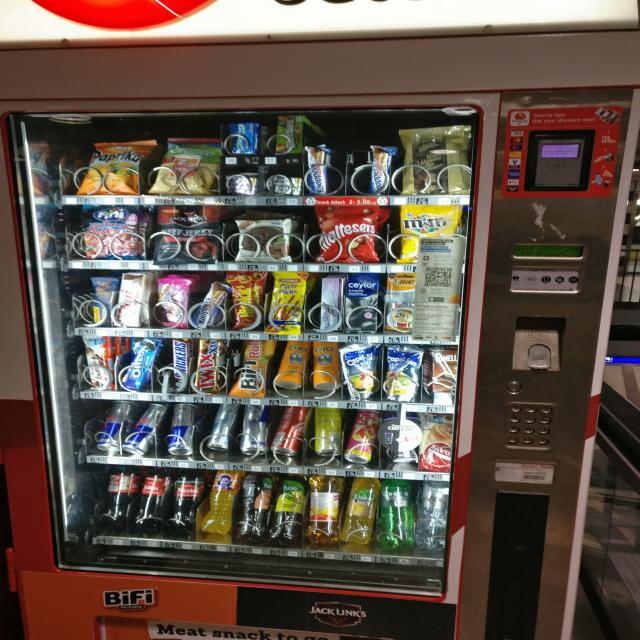7days_croissantschoko_packung_80_1_0000000000003: (417, 413, 453, 470)
airwaves_menthoneucalyptus_riegel_14_1_50173167: (228, 120, 258, 153)
bifi_roll__50__4251097402635: (238, 338, 271, 393)
bueno___43__4008400320328: (80, 333, 115, 391)
c-swiss_dosenabisicetea__33__9120025930135: (271, 337, 310, 388), (310, 338, 342, 390)
caprisun_multivitamin__20__4000177605004: (341, 340, 381, 397), (386, 343, 423, 402)
coke__dose_33__54491472: (272, 406, 310, 455)
coke__flasche_50__54491472: (168, 467, 208, 534), (134, 466, 172, 530), (100, 462, 136, 526)
comella_schokodrink__33__7613100037253: (424, 346, 461, 399)
fanta___50__40822938: (204, 470, 240, 537)
fini_galaxymix_packung_100_1_8410525150364: (81, 202, 142, 258)
fini_jellykisses_packung_80_1_8410525116704: (156, 278, 188, 328)
fuse_lemon__50__5449000235947: (268, 473, 308, 543)
fuse_lemon_dose_33__5449000235947: (308, 405, 348, 459)
fuse_peach__50__5449000236623: (234, 469, 273, 538)
jacklinks_beefjerkyorginal__25__4047751730219: (154, 204, 222, 263)
jlbrichard_gauffre__90__5410495002000: (399, 127, 466, 196)
kagi___50__7610046000259: (115, 268, 145, 326)
knoppers_riegel____4035800488808: (192, 277, 230, 329), (366, 141, 396, 194), (302, 142, 329, 196)
lorenz_nicnacs__40__4018077798818: (232, 272, 260, 326)
malburner_partysticks__40__7610200279682: (268, 272, 307, 336)
maltesers___100__5000159023061: (315, 204, 382, 264)
mnms_gelb__45__40111445: (398, 203, 458, 266)
oreo___66__84100733: (120, 338, 159, 391)
powerbar_proteinplusschoko__55__4029679520028: (89, 272, 117, 326)
ramseier_schorle__50__7610057012456: (308, 474, 342, 544)
redbull___33__90162909: (128, 399, 166, 455), (94, 400, 132, 452), (166, 401, 198, 456), (240, 404, 272, 456), (208, 402, 240, 450)
skittles_sour_riegel_51_1_0000000000004: (273, 112, 304, 154)
snickers___50__5000159461122: (167, 337, 192, 393)
stimorol_spearmint_riegel_14_1_0000000000005: (265, 173, 301, 194)
stimorol_wildcherry_riegel_14_1_57060330: (226, 176, 256, 192)
tiki_himbeer_brause__50__00000000009342: (346, 409, 379, 463)
twix___50__5000159459228: (194, 338, 222, 393)
valser_classic__50__76404160: (375, 477, 416, 553)
valser_still__50__7610335002575: (414, 478, 450, 559)
volvic_pinapple__50__305764335648: (338, 472, 381, 548)
zweifel_graneochilli__100__7610095184009: (153, 135, 220, 195)
zweifel_paprika__90__7610095013002: (77, 138, 151, 191)
